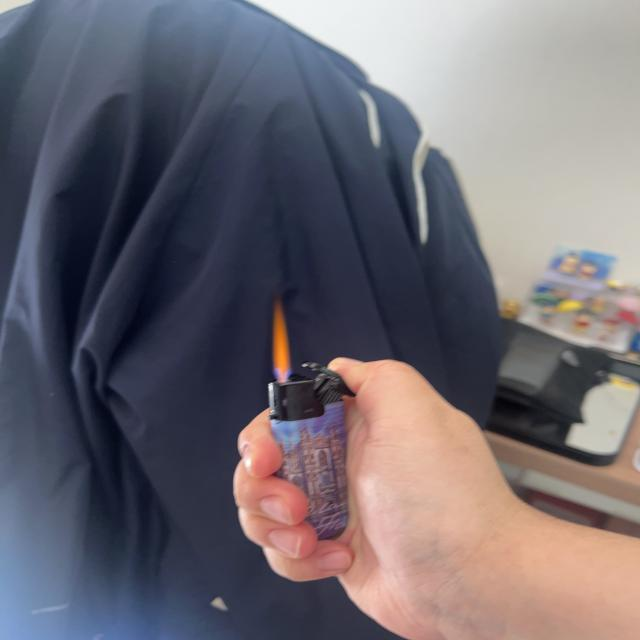fire: (270, 300, 296, 378)
